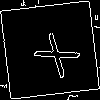X: (25, 25, 81, 80)
